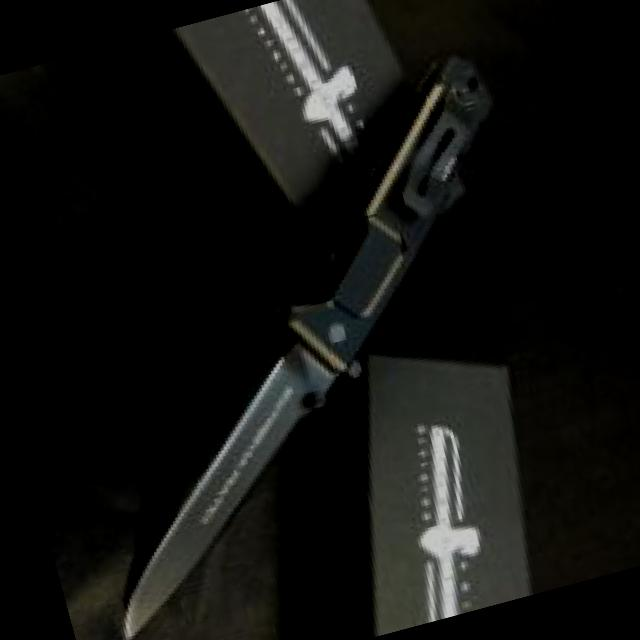knife: (55, 318, 402, 639)
